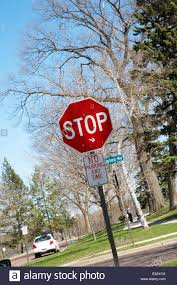Stop: (51, 102, 119, 153)
